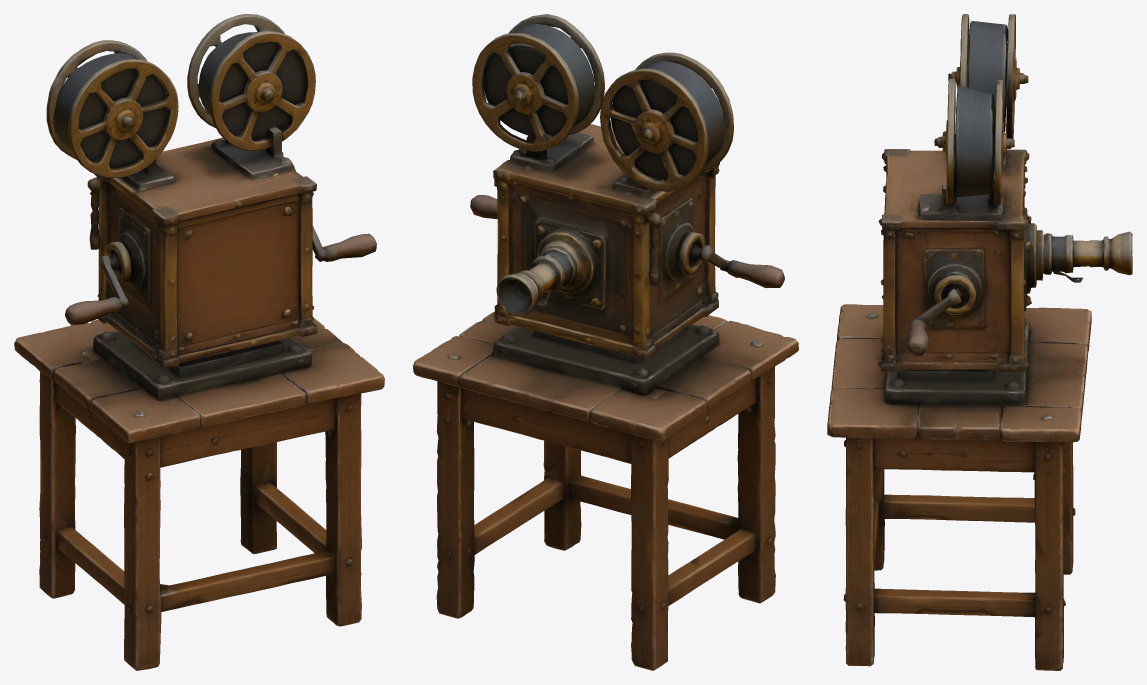
Rendered from m_projector.glb.
3 views of the same model, side by side, from view 1: azimuth 30°, elevation 25°; view 2: azimuth 150°, elevation 25°; view 3: azimuth 270°, elevation 25° (orthographic).
Parts seen in each view (by area): view 1: tripo_node_1157b9ec-8411-4027-a8bf-26ab2b62e920; view 2: tripo_node_1157b9ec-8411-4027-a8bf-26ab2b62e920; view 3: tripo_node_1157b9ec-8411-4027-a8bf-26ab2b62e920.
Part boxes in pixels (x1,y1,x2,y2): tripo_node_1157b9ec-8411-4027-a8bf-26ab2b62e920: (14, 14, 384, 670); tripo_node_1157b9ec-8411-4027-a8bf-26ab2b62e920: (413, 14, 798, 670); tripo_node_1157b9ec-8411-4027-a8bf-26ab2b62e920: (827, 14, 1132, 670).
Bounding box in the file's own units: 0.572 × 1 × 0.4935.
1 material, 1 textured.
